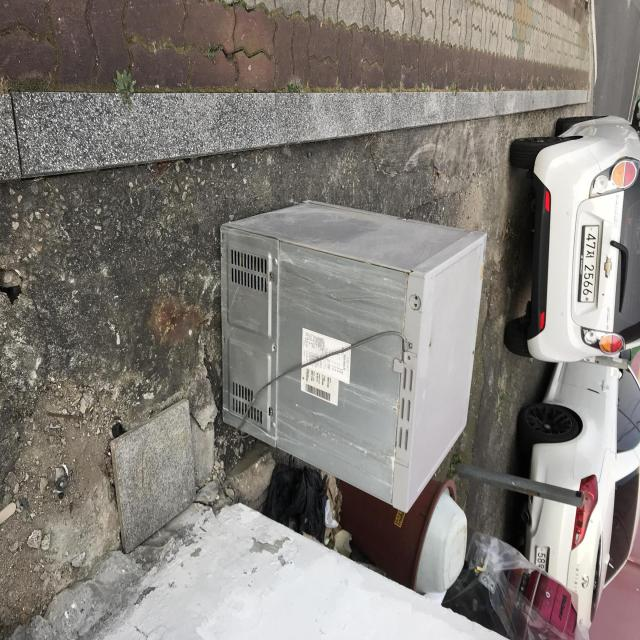refrigerator: (219, 197, 490, 514)
